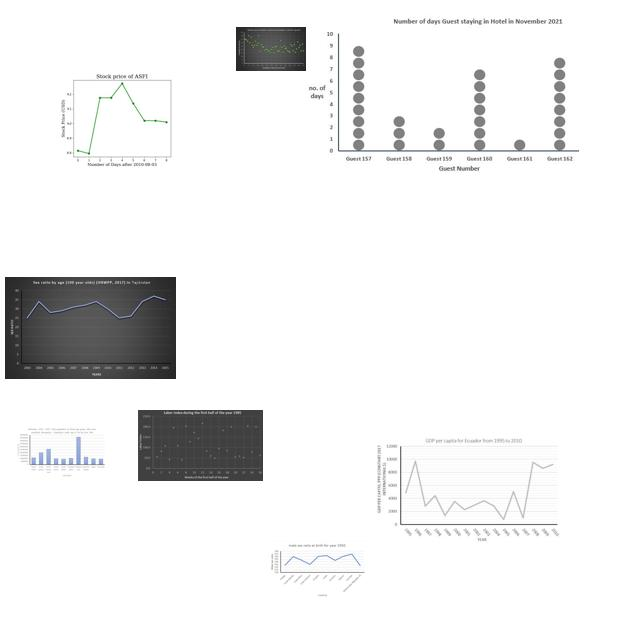Graph: (306, 15, 579, 176), (374, 435, 560, 543), (5, 277, 176, 379), (54, 68, 187, 168), (138, 410, 263, 481), (267, 541, 367, 599), (17, 427, 106, 477), (236, 27, 306, 71)
